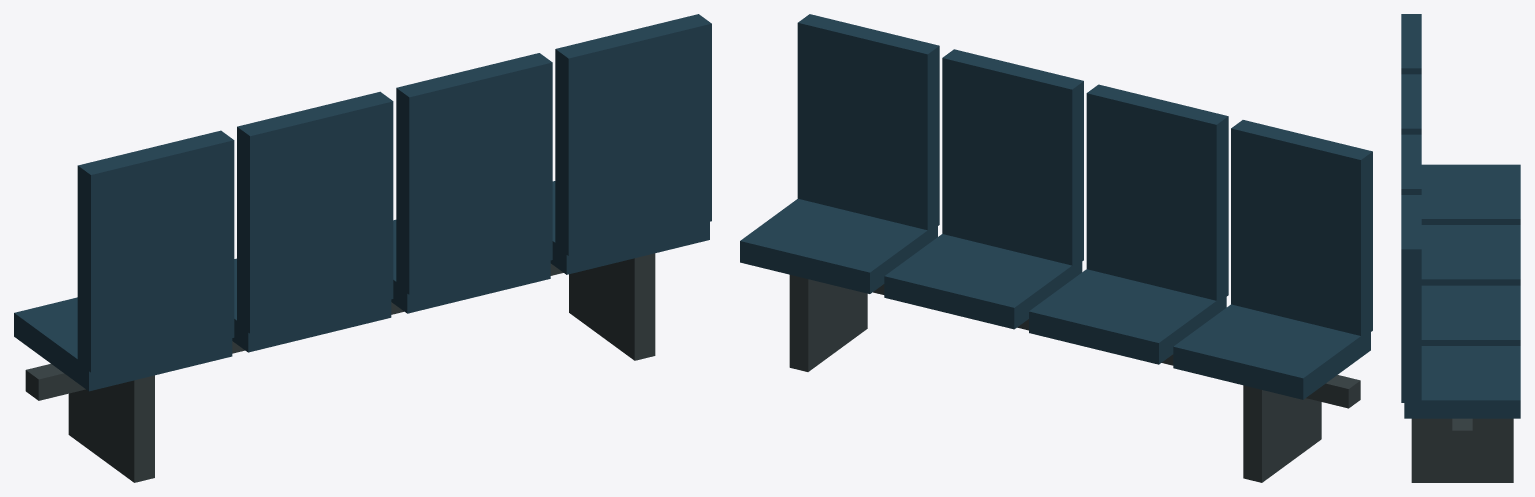
Rendered from public_bench.obj.
The picture shows the model from 3 angles, left to right: view 1: azimuth 30°, elevation 25°; view 2: azimuth 150°, elevation 25°; view 3: azimuth 270°, elevation 25°; orthographic projection. The views are drawn at different scales.
Visible parts, largest first — view 1: seat_back, seat, leg, rail; view 2: seat_back, seat, leg, rail; view 3: seat, seat_back, leg, rail.
Boxes of the visible parts, x1,y1,x2,y2 form: seat_back: (77, 14, 711, 372); seat: (14, 181, 709, 391); leg: (68, 253, 655, 482); rail: (25, 263, 563, 400); seat_back: (797, 14, 1372, 338); seat: (740, 199, 1370, 399); leg: (789, 275, 1321, 482); rail: (873, 284, 1360, 408); seat: (1404, 164, 1520, 418); seat_back: (1401, 14, 1421, 402); leg: (1411, 418, 1513, 482); rail: (1452, 418, 1472, 447).
Bounding box in the file's own units: 2.9 × 1.37 × 0.585.
